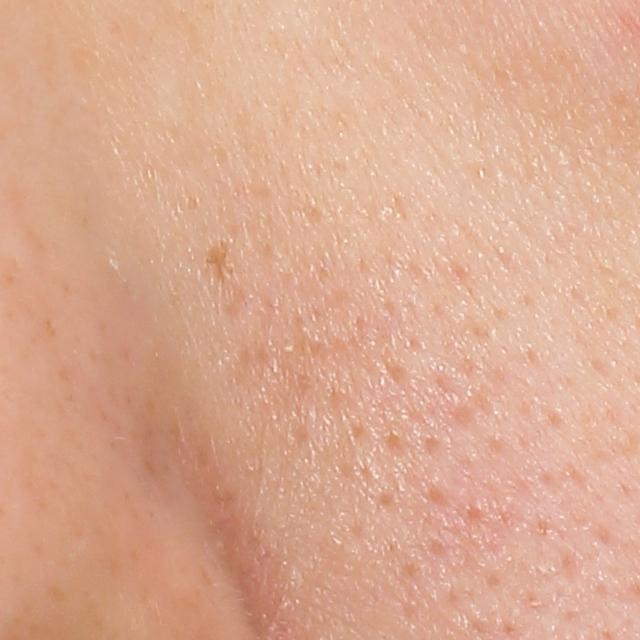melasma: (201, 235, 235, 285)
